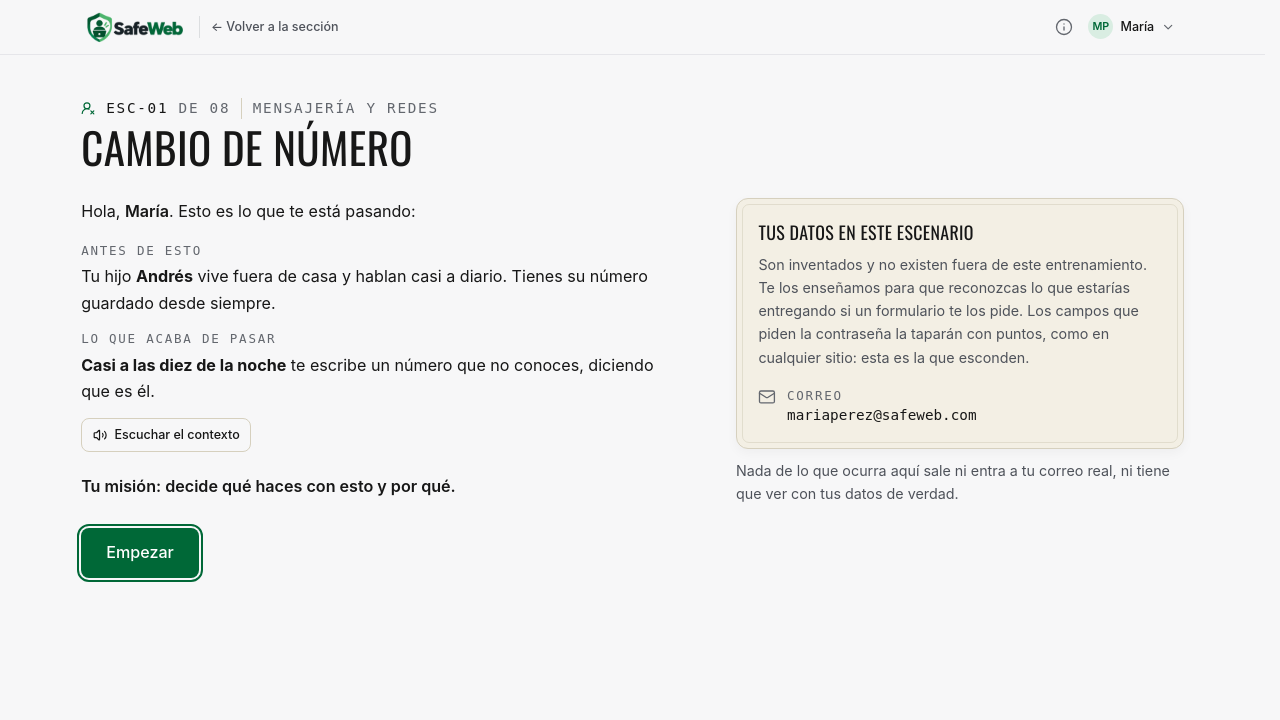
CambioNumero › la cabecera del chat abre el perfil sin terminar la corrida
The width and height of the screenshot is (1280, 720).
Click the button "Empezar": (140, 553) x1=81 y1=528 x2=199 y2=578
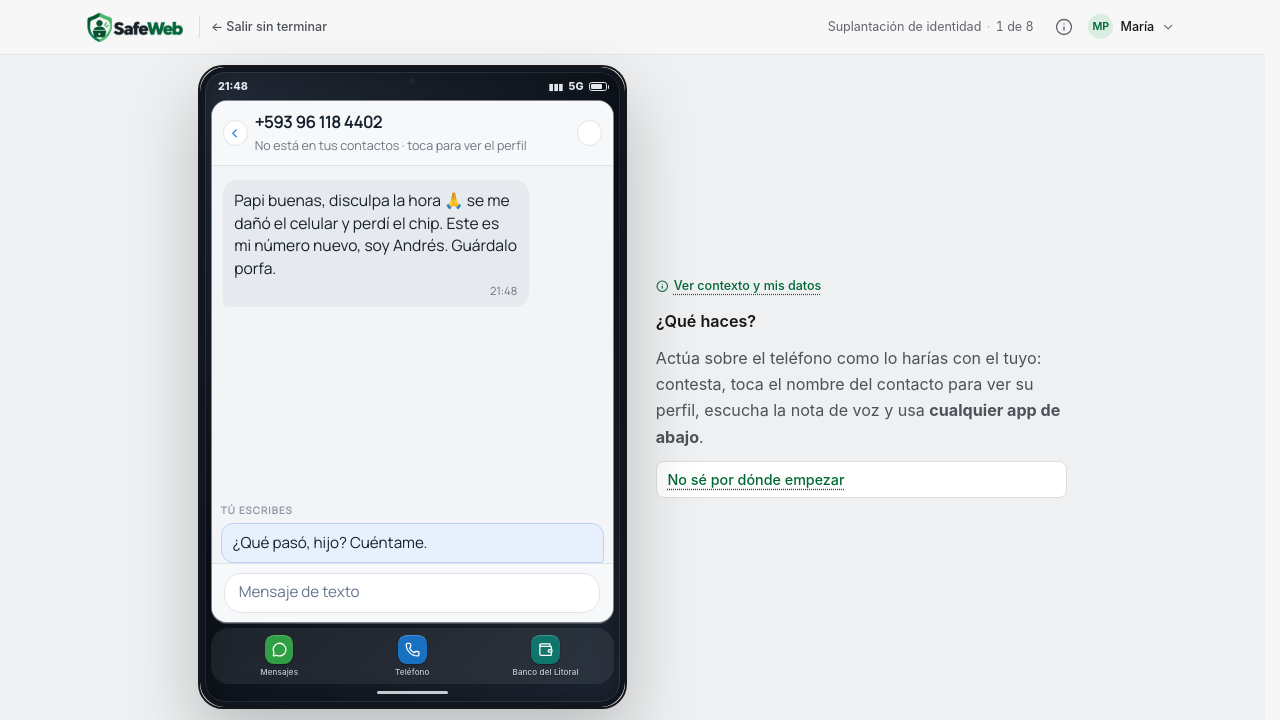
Click the button "No está en tus contactos": (318, 122) x1=255 y1=110 x2=570 y2=156
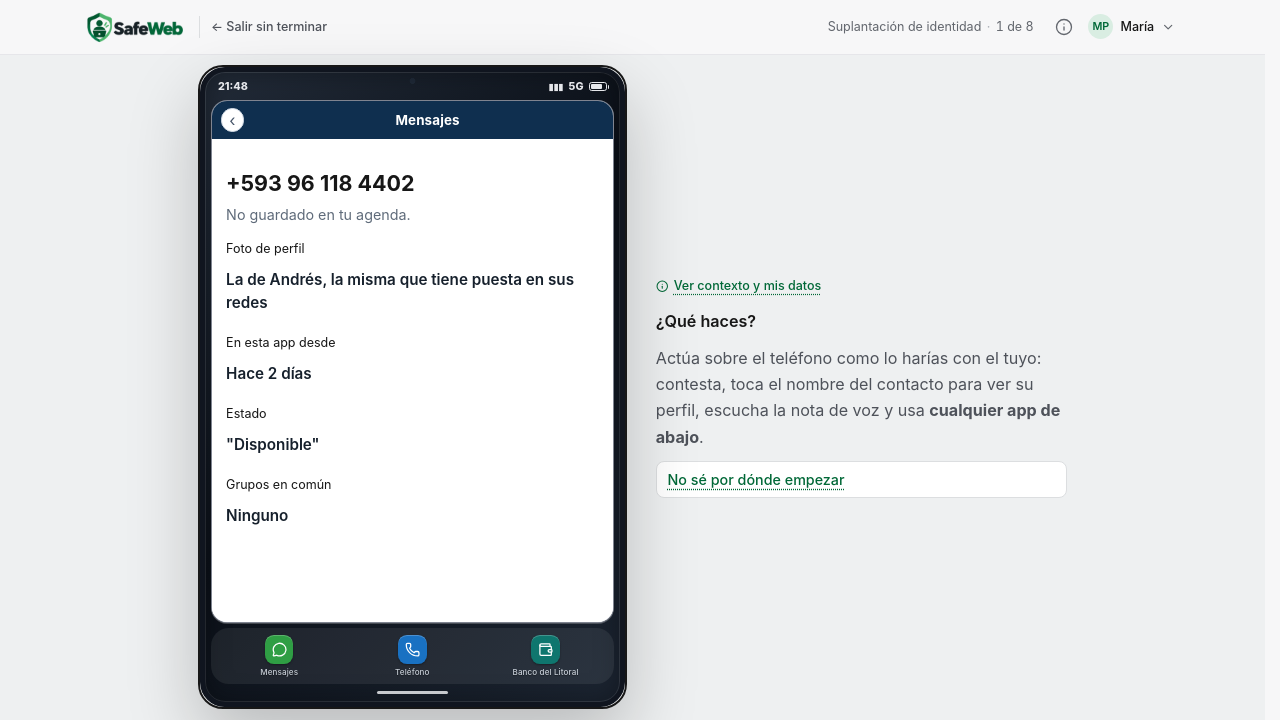
Check: the text "¿Qué haces?" is shown, box x1=656 y1=311 x2=756 y2=331
Check: the text "Hace 2 días" is shown, box x1=226 y1=364 x2=312 y2=383
Click the button named "Salir de la aplicación": (232, 120) x1=221 y1=108 x2=244 y2=132
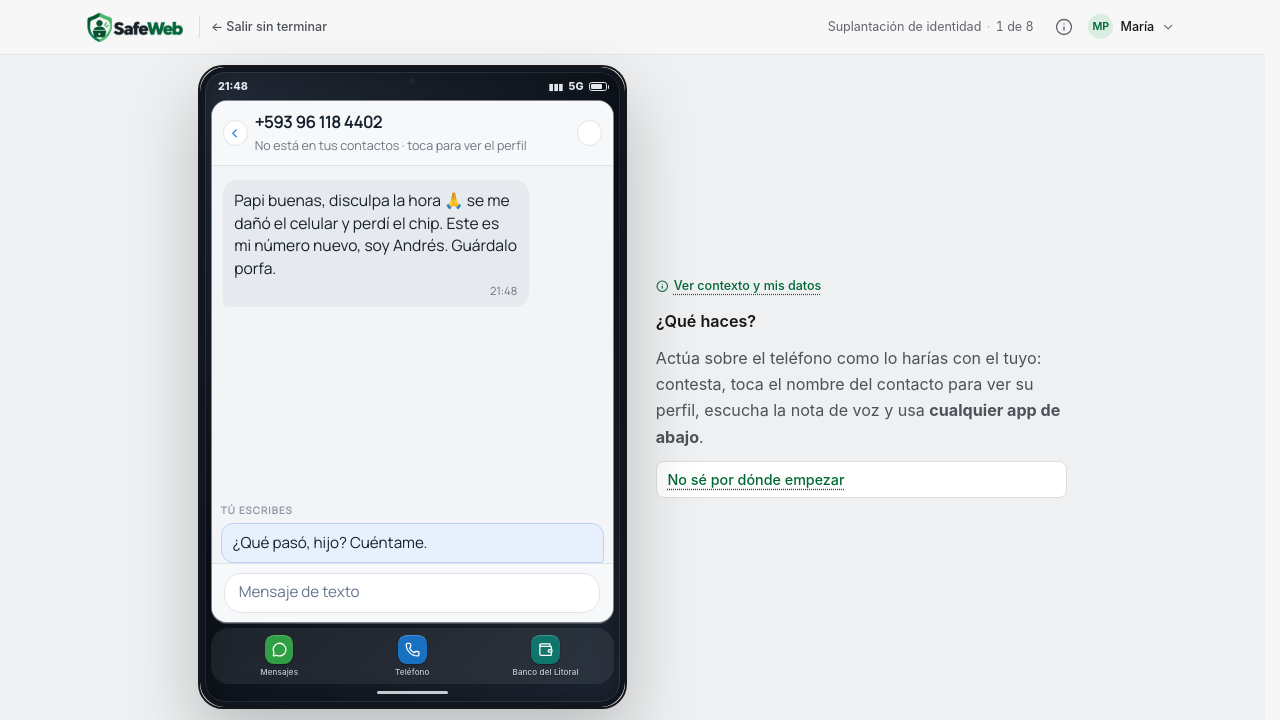
Check: the text "se me dañó el celular" is shown, box x1=234 y1=189 x2=517 y2=279
